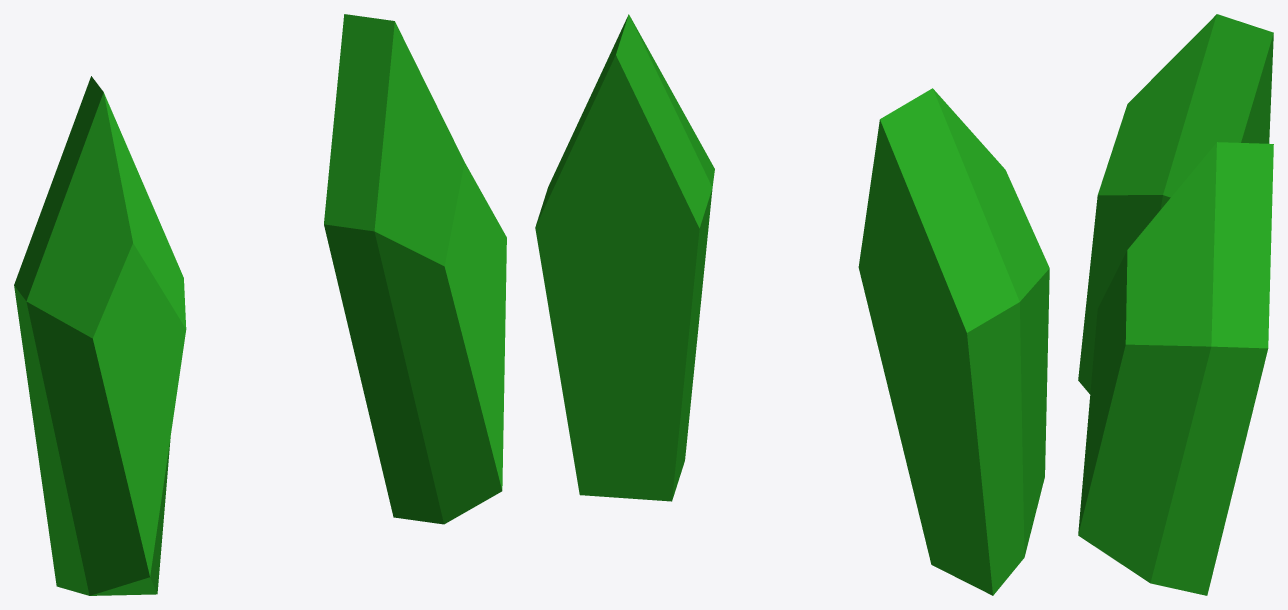
Rendered from PickUp2.fbx.
3 renders of one model, left to right at view 1: azimuth 30°, elevation 25°; view 2: azimuth 150°, elevation 25°; view 3: azimuth 270°, elevation 25°, orthographic. The views are drawn at different scales.
Parts seen in each view (by area): view 1: Ojo; view 2: Ojo; view 3: Ojo.
Part boxes in pixels (x1,y1,x2,y2): Ojo: (14,14,506,595); Ojo: (535,14,1049,595); Ojo: (1078,14,1273,595).
Bounding box in the file's own units: 73.61 × 74.36 × 30.62.
